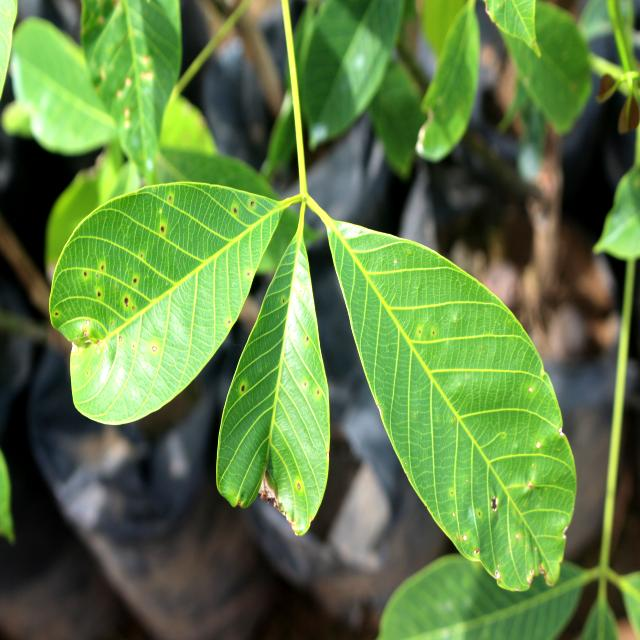Colletotrichum: (241, 385, 245, 392), (297, 483, 301, 490), (152, 346, 156, 352), (119, 337, 123, 342), (125, 298, 128, 304), (326, 452, 329, 457)
Leaf-Blight: (259, 468, 279, 512)
